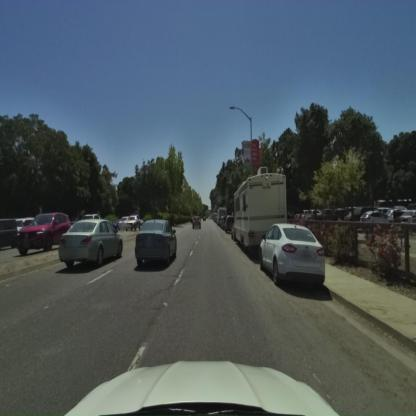car: (259, 224, 328, 287), (56, 219, 126, 270), (15, 213, 72, 255), (134, 219, 178, 270), (0, 219, 18, 251), (116, 216, 142, 232)
truck: (230, 172, 289, 258)
